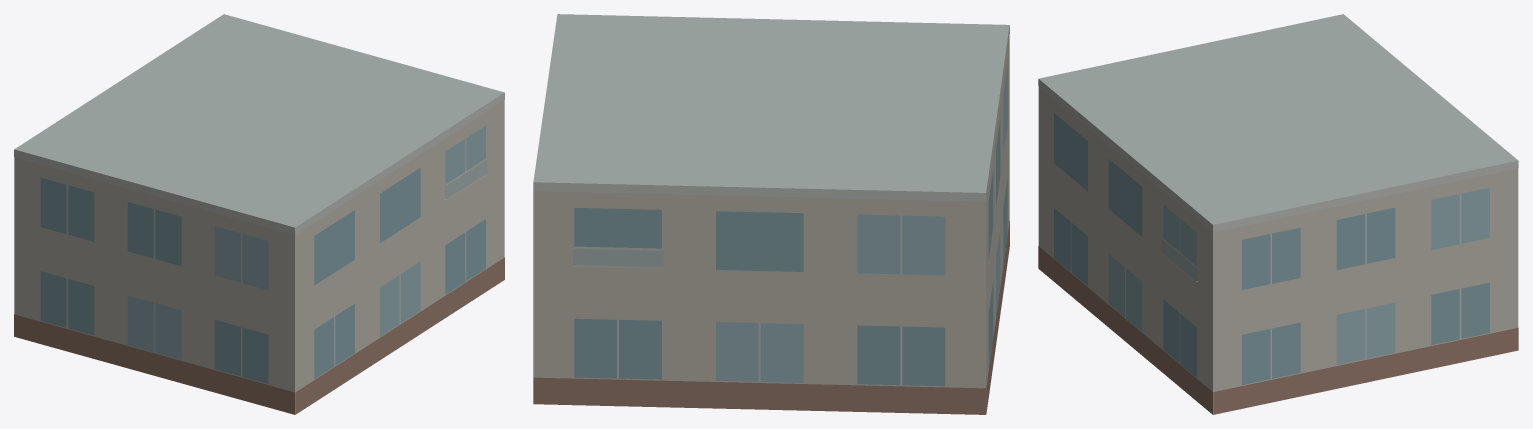
Rendered from survey-upis-32708372.glb.
The picture shows the model from 3 angles, left to right: view 1: azimuth 30°, elevation 25°; view 2: azimuth 150°, elevation 25°; view 3: azimuth 270°, elevation 25°; orthographic projection. The views are drawn at different scales.
Parts seen in each view (by area): view 1: survey-upis-32708372.tmp; view 2: survey-upis-32708372.tmp; view 3: survey-upis-32708372.tmp.
Boxes of the visible parts, x1,y1,x2,y2 form: survey-upis-32708372.tmp: (14, 14, 504, 414); survey-upis-32708372.tmp: (533, 14, 1009, 414); survey-upis-32708372.tmp: (1038, 14, 1518, 414).
Size of the model in its own units: 14.54 by 6.1 by 13.98.
